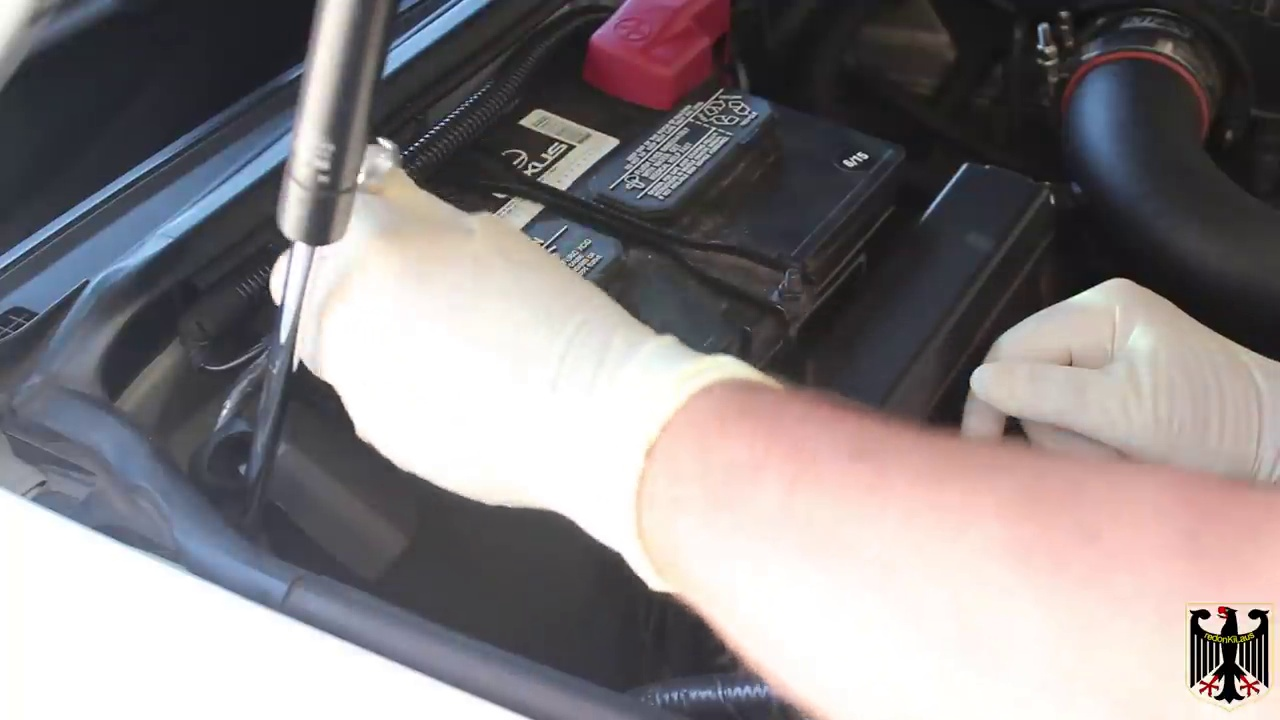battery: (405, 15, 904, 356)
pos_connected: (565, 2, 754, 123)
